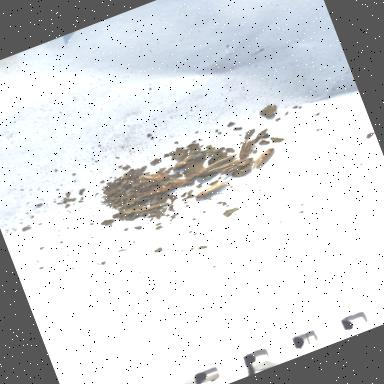pbw: (192, 152, 242, 180), (190, 176, 232, 204), (168, 146, 207, 172), (132, 182, 174, 206), (216, 154, 258, 178), (230, 134, 264, 162), (248, 144, 282, 170), (162, 170, 196, 194), (140, 166, 172, 188)
